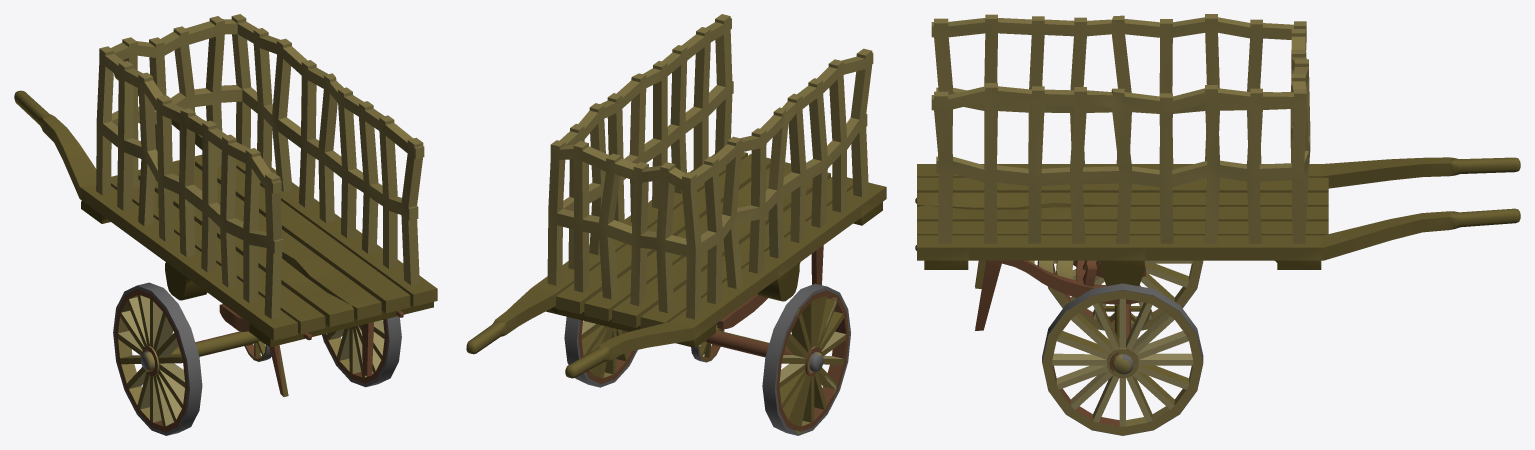
Rendered from vehicles.fbx.
3 renders of one model, left to right at view 1: azimuth 30°, elevation 25°; view 2: azimuth 150°, elevation 25°; view 3: azimuth 270°, elevation 25°, orthographic. The views are drawn at different scales.
Visible parts, largest first — view 1: Handcart01A, Handcarto1B-Wheels, Handcarto1A-Wheels, Wheelbarrow01A; view 2: Handcart01A, Handcarto1B-Wheels, Wheelbarrow01A, Handcarto1A-Wheels; view 3: Handcart01A, Handcarto1A-Wheels, Handcarto1B-Wheels, Wheelbarrow01A.
Part boxes in pixels (box(x1,y1,x2,y2)): Handcart01A: box(14, 14, 437, 347); Handcarto1B-Wheels: box(113, 282, 401, 435); Handcarto1A-Wheels: box(118, 295, 384, 425); Wheelbarrow01A: box(219, 304, 403, 396); Handcart01A: box(466, 14, 886, 378); Handcarto1B-Wheels: box(564, 283, 850, 435); Wheelbarrow01A: box(717, 245, 823, 329); Handcarto1A-Wheels: box(581, 297, 849, 434); Handcart01A: box(917, 14, 1520, 285); Handcarto1A-Wheels: box(1042, 260, 1202, 435); Handcarto1B-Wheels: box(1042, 261, 1203, 435); Wheelbarrow01A: box(915, 198, 1145, 330).
Bounding box in the file's own units: 1.26 × 1.68 × 2.79.
